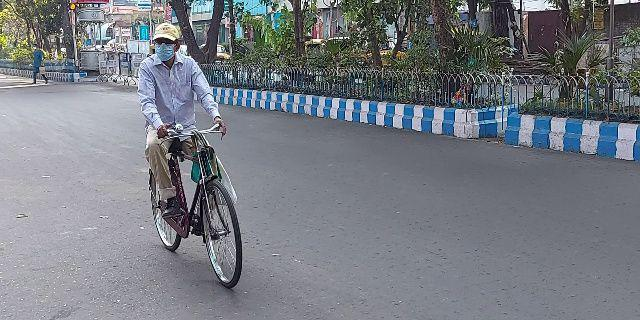Cycle: (132, 15, 257, 292)
